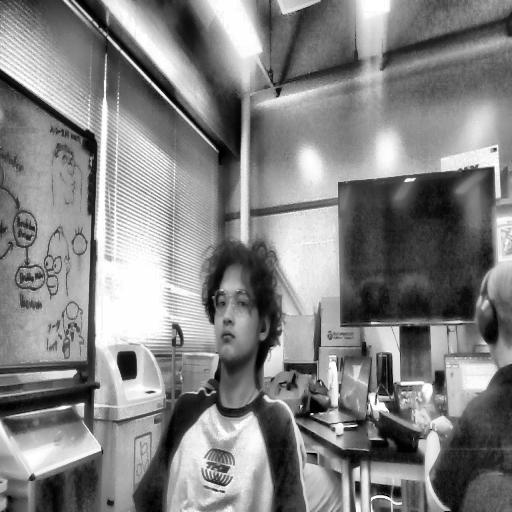Daifuku: (200, 243, 282, 372)
Not Daifuku: (474, 258, 512, 371)
